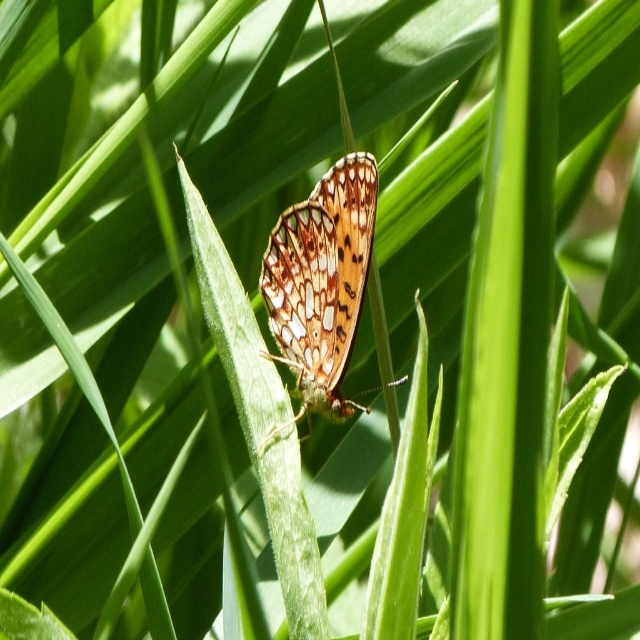Butterfly: (256, 150, 408, 456)
